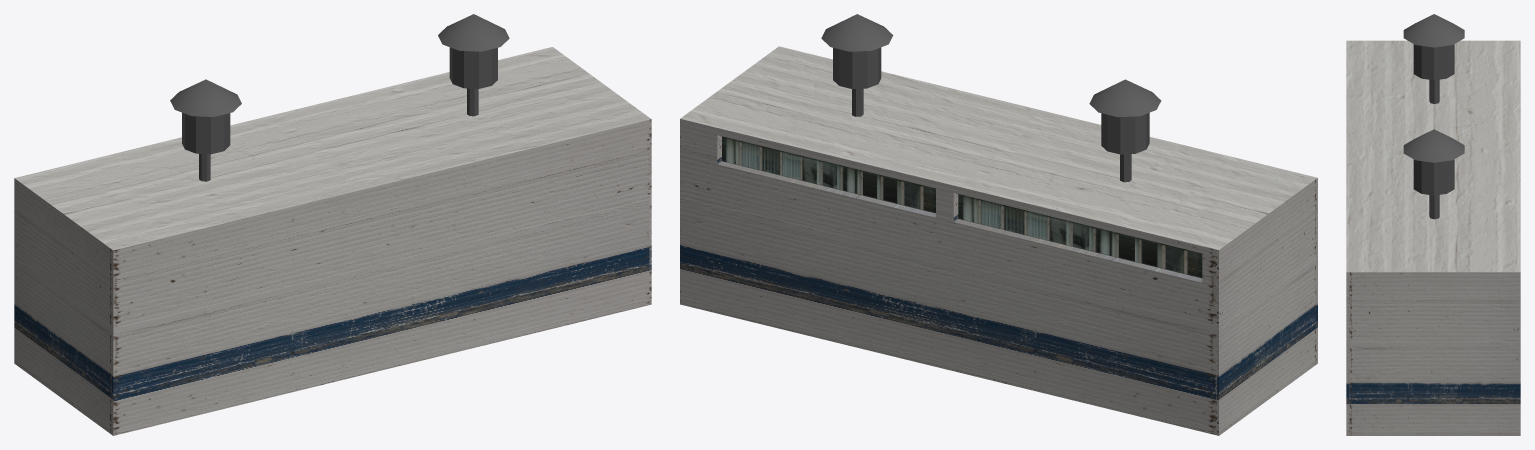
The model's file is house 2.fbx.
3 renders of one model, left to right at view 1: azimuth 30°, elevation 25°; view 2: azimuth 150°, elevation 25°; view 3: azimuth 270°, elevation 25°, orthographic. The views are drawn at different scales.
Parts seen in each view (by area): view 1: pCylinder6; view 2: pCylinder6; view 3: pCylinder6.
Part boxes in pixels (x1=…): pCylinder6: x1=14, y1=14, x2=651, y2=435; pCylinder6: x1=680, y1=14, x2=1317, y2=435; pCylinder6: x1=1346, y1=14, x2=1520, y2=435.
Bounding box in the file's own units: 0.2213 × 0.1121 × 0.0704.
